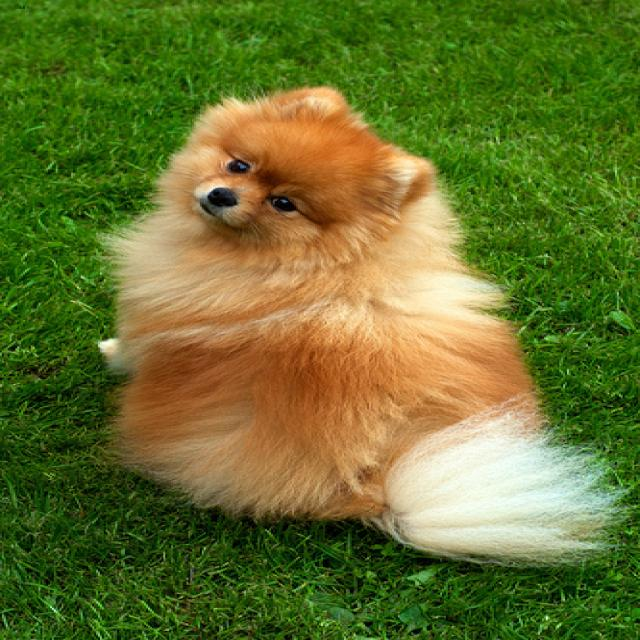dog-pomeranian: (86, 76, 632, 573)
